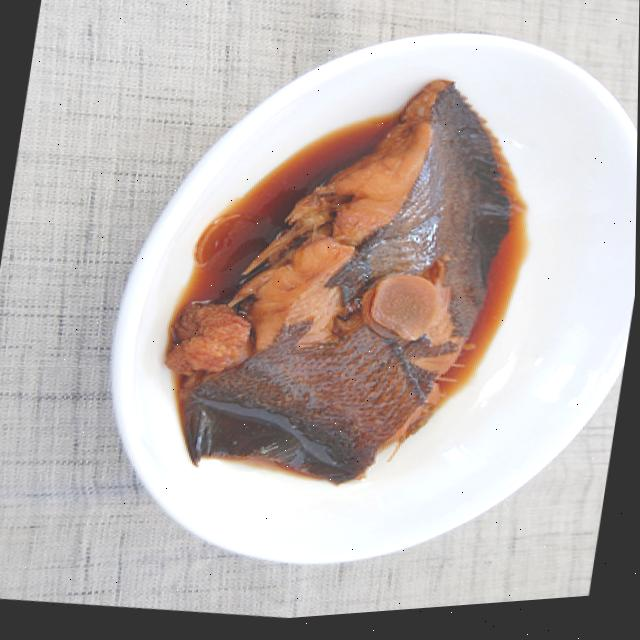熟制海鲜: (119, 24, 575, 542)
